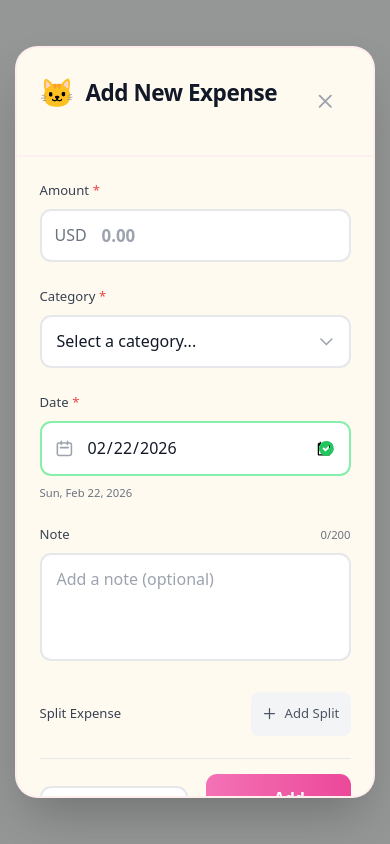
Scenario: ExpenseFormModal › Error Handling › should allow dismissing error message
// Fill and submit form
Type "50" into the field named "amount".
click(195, 236); type("50")  # box x1=40 y1=209 x2=350 y2=262
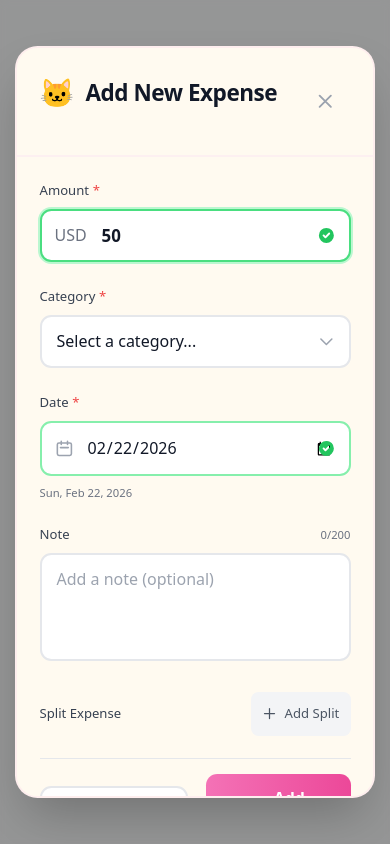
Select "🍜 Food" in the dropdown named "category" at (195, 342), box x1=40 y1=315 x2=350 y2=368
(page scrolled)
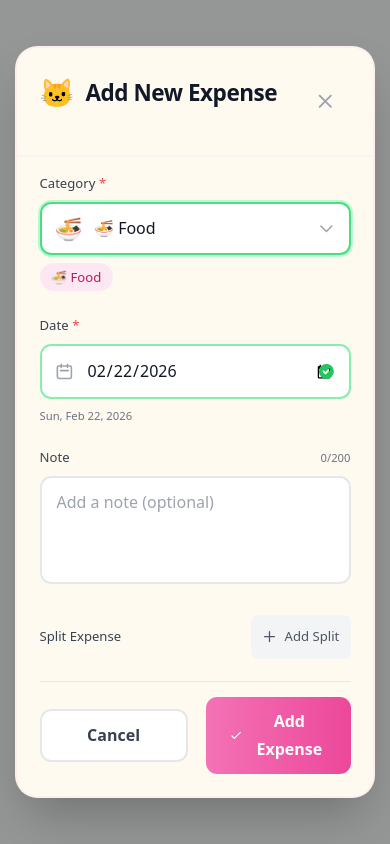
Click the button "Add Expense".
click(278, 736)  # box x1=206 y1=697 x2=350 y2=774
(page scrolled)
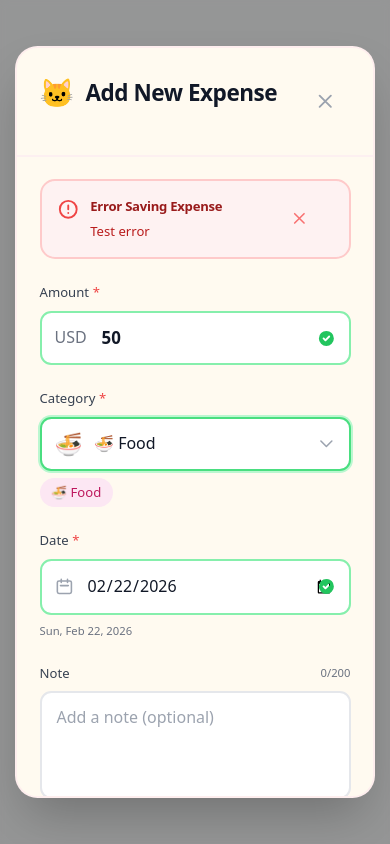
Result: the heading "Error Saving Expense" is shown at x1=90 y1=197 x2=222 y2=215
// Dismiss error
Click the button named "Dismiss error".
click(312, 218)  # box x1=290 y1=196 x2=334 y2=240
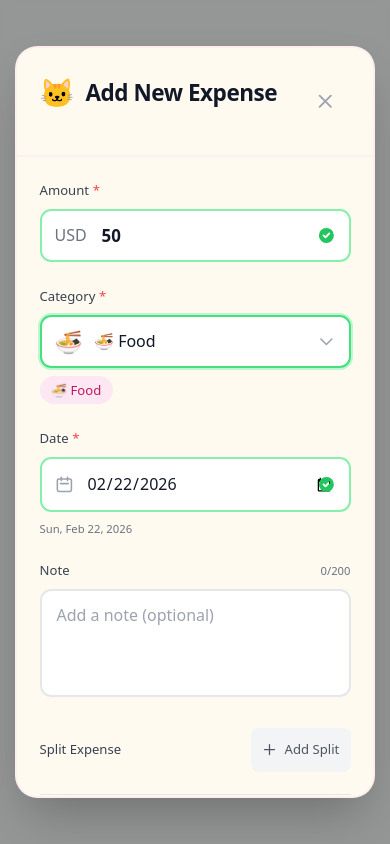
Result: the heading "Error Saving Expense" is gone
